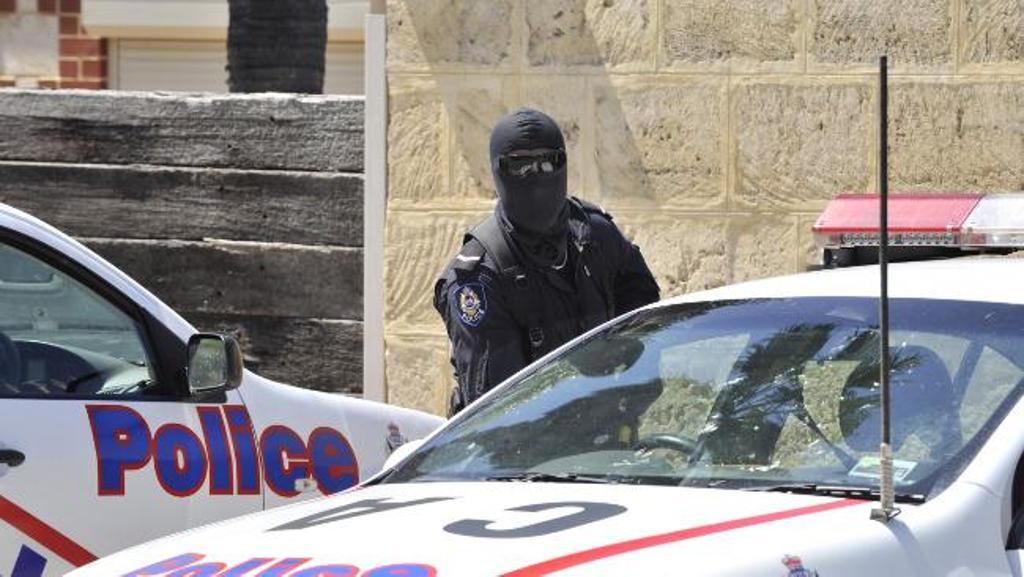face: (505, 125, 565, 225)
